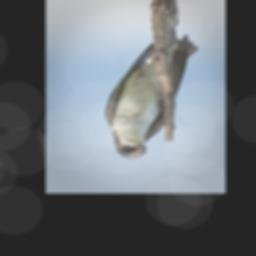Swallow: (104, 27, 199, 159)
